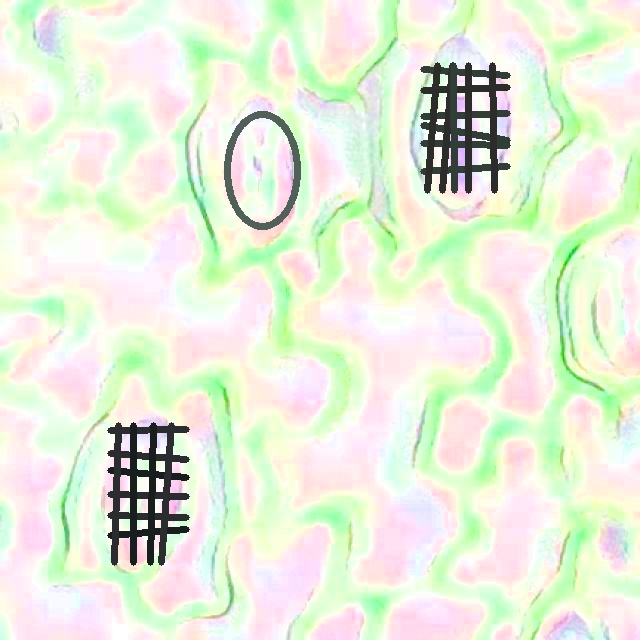open: (420, 62, 510, 193), (107, 422, 189, 565), (223, 110, 301, 230)
